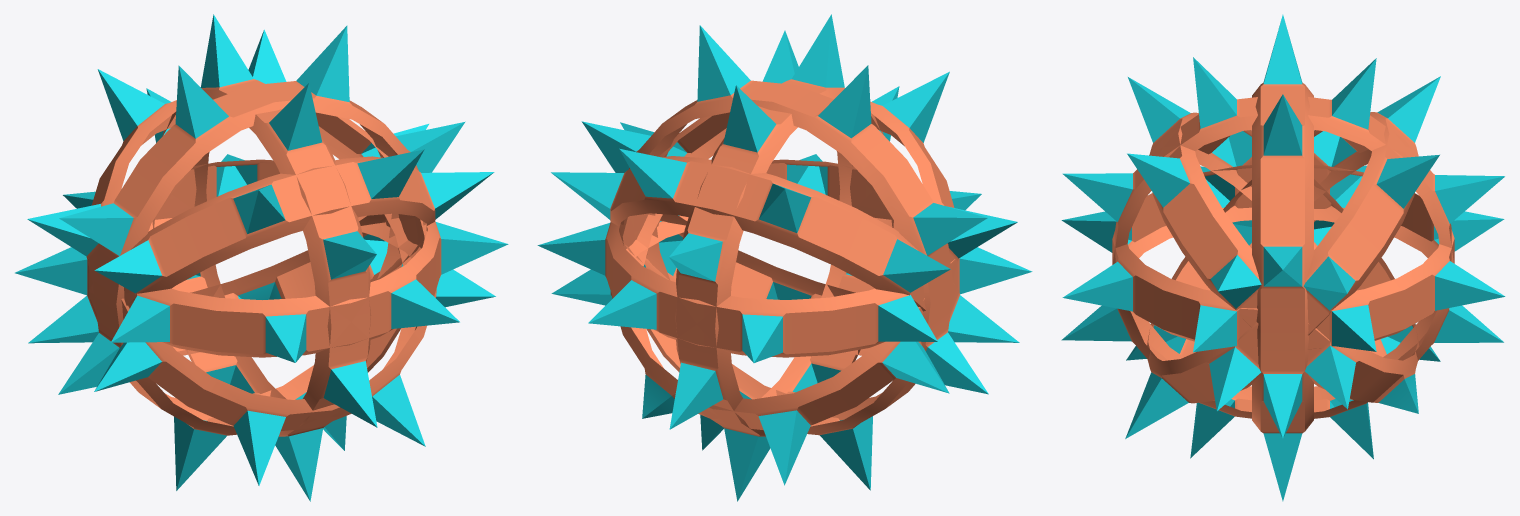
Rendered from DiamondSpikes2.fbx.
The picture shows the model from 3 angles, left to right: view 1: azimuth 30°, elevation 25°; view 2: azimuth 150°, elevation 25°; view 3: azimuth 270°, elevation 25°; orthographic projection. The views are drawn at different scales.
Parts seen in each view (by area): view 1: Lv1Iron.002, Lv4Iron.002, Lv2Iron.002, Lv3Iron.002, Lv5Iron.002; view 2: Lv1Iron.002, Lv5Iron.002, Lv2Iron.002, Lv3Iron.002, Lv4Iron.002; view 3: Lv2Iron.002, Lv3Iron.002, Lv5Iron.002, Lv1Iron.002, Lv4Iron.002.
Boxes of the visible parts, x1,y1,x2,y2 form: Lv1Iron.002: [58, 25, 465, 490]; Lv4Iron.002: [28, 149, 494, 355]; Lv2Iron.002: [15, 154, 508, 362]; Lv3Iron.002: [146, 14, 377, 501]; Lv5Iron.002: [27, 29, 495, 485]; Lv1Iron.002: [581, 25, 988, 490]; Lv5Iron.002: [551, 148, 1019, 355]; Lv2Iron.002: [537, 154, 1032, 362]; Lv3Iron.002: [669, 14, 899, 501]; Lv4Iron.002: [551, 30, 1017, 485]; Lv2Iron.002: [1061, 165, 1505, 352]; Lv3Iron.002: [1061, 57, 1504, 459]; Lv5Iron.002: [1125, 76, 1440, 438]; Lv1Iron.002: [1252, 14, 1313, 501]; Lv4Iron.002: [1127, 77, 1440, 413].
Bounding box in the file's own units: 1479 × 1479 × 1453.
